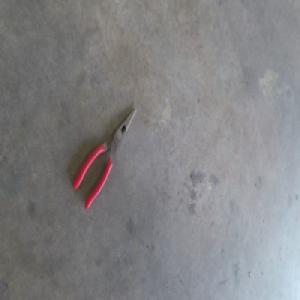Pliers: (72, 106, 136, 208)
